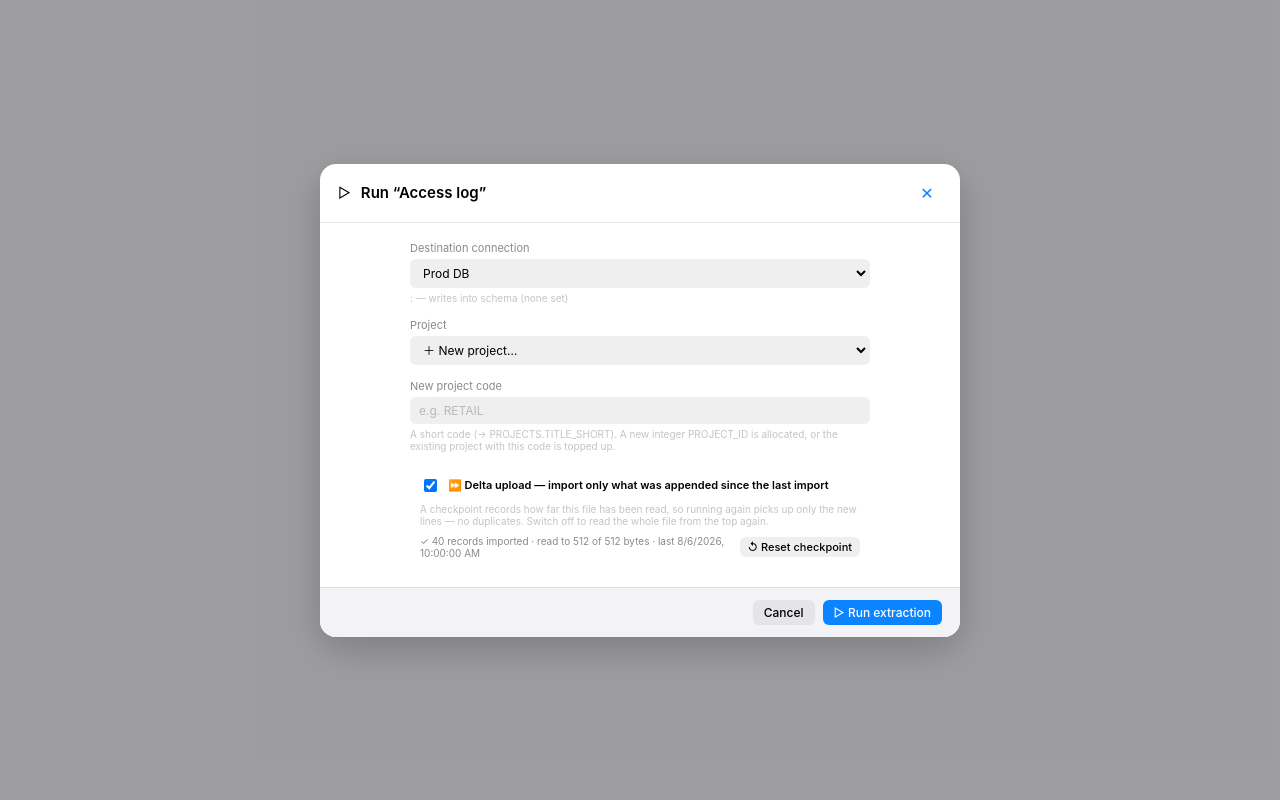
Test: RunSourceDialog › reports an empty delta run as "nothing new", not a broken regex
Type "P1" into the field with placeholder "e.g. RETAIL" at (640, 410), box x1=410 y1=396 x2=870 y2=424
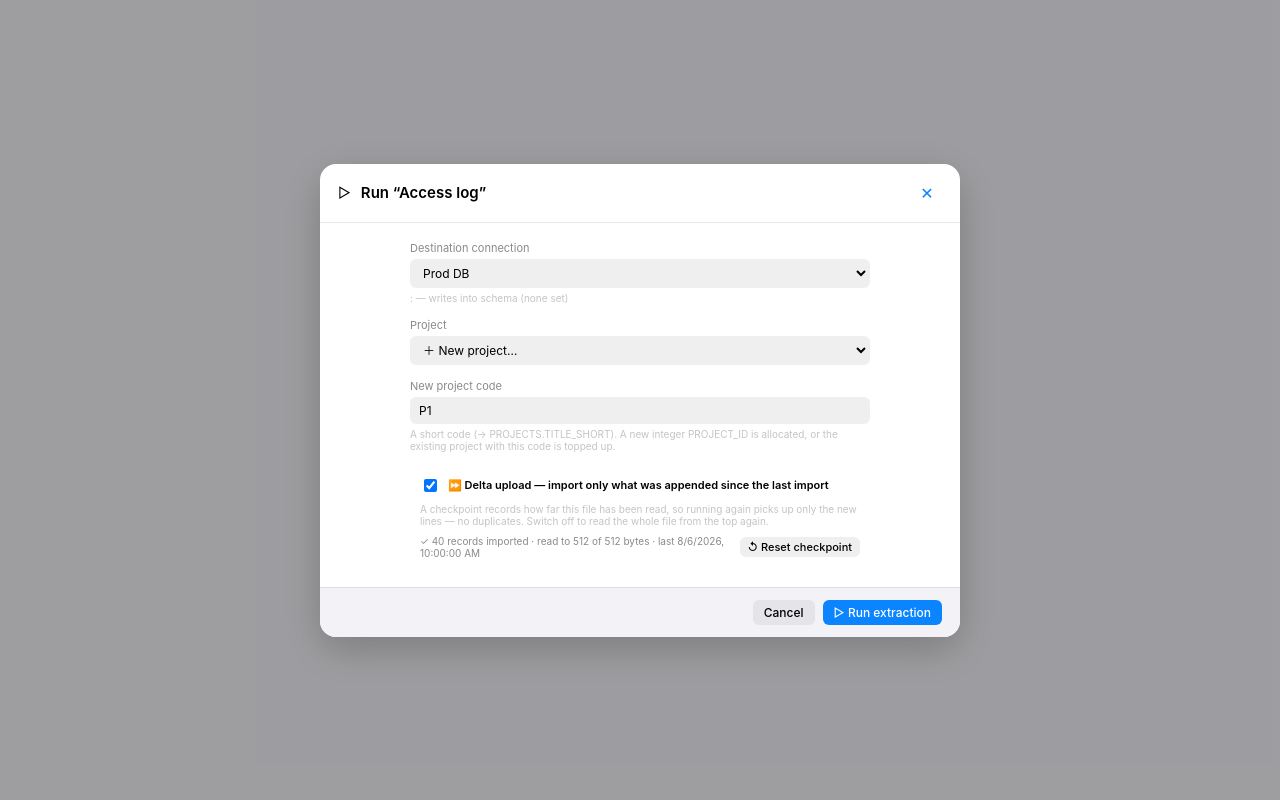
Click the button "▷ Run extraction" at (882, 612), box x1=823 y1=600 x2=942 y2=624
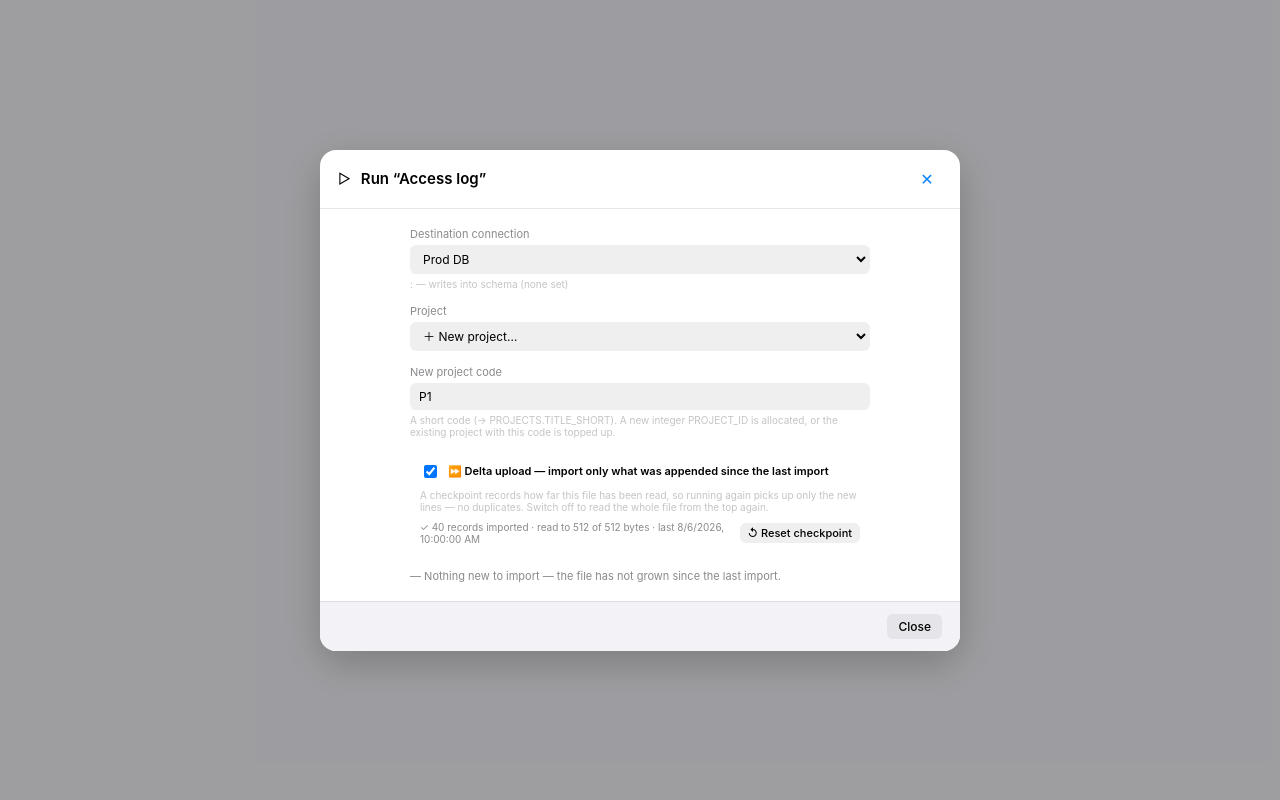
Result: the text "Nothing new to import" is shown at x1=424 y1=568 x2=781 y2=582
